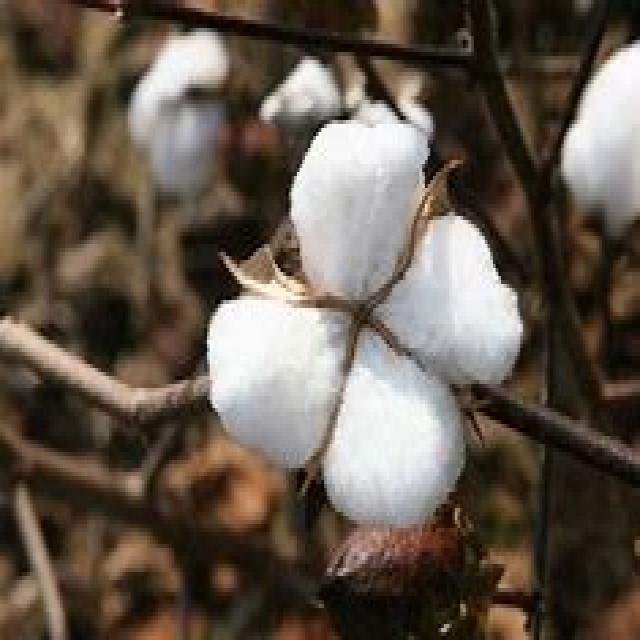Matured Cotton Boll: (199, 126, 513, 503), (120, 16, 235, 197), (561, 34, 640, 226)
